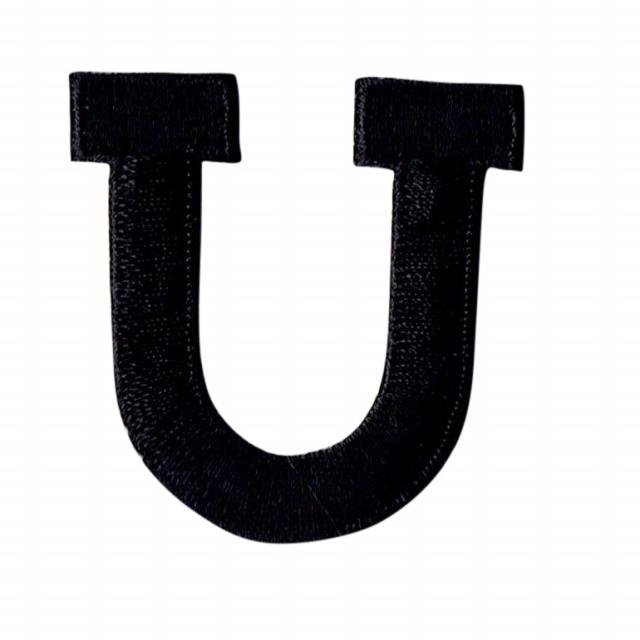U: (57, 31, 543, 586)
